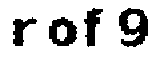9: (113, 6, 152, 51)
f: (80, 4, 107, 48)
o: (48, 16, 77, 48)
r: (11, 16, 41, 50)
